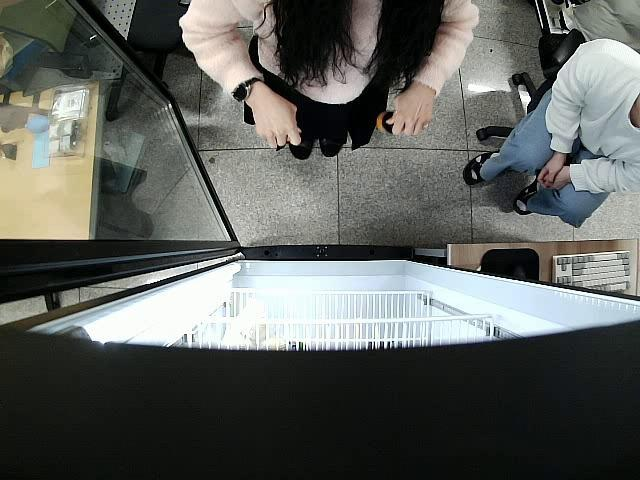17_vita500: (377, 110, 402, 136)
